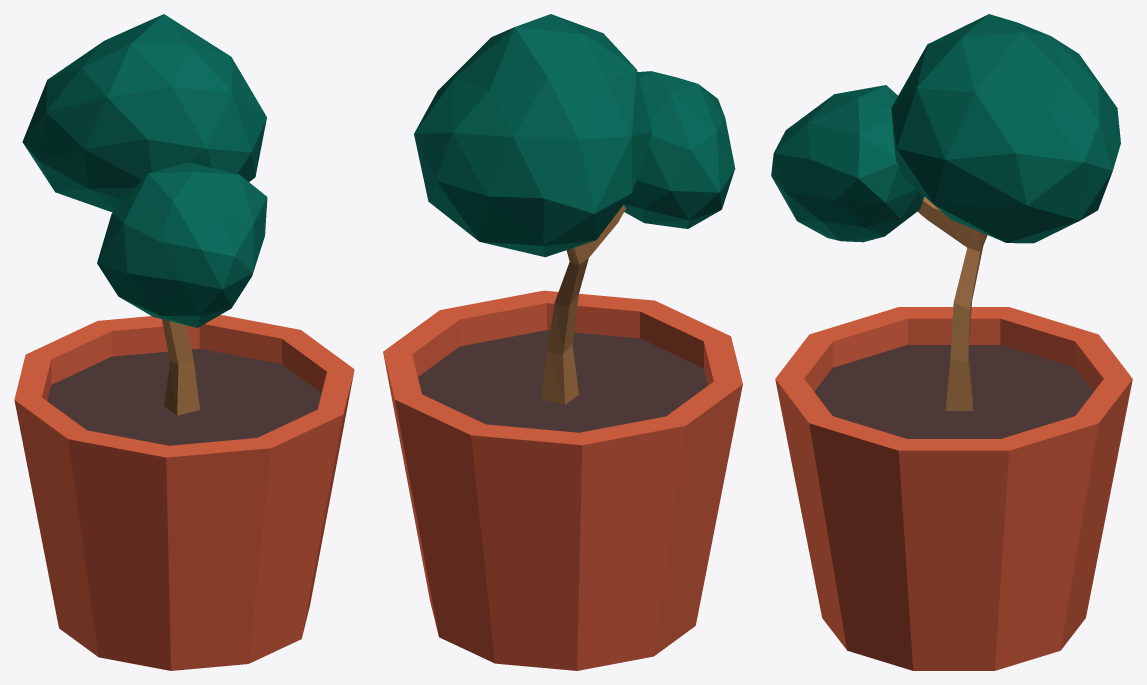
File: plant.obj
3 renders of one model, left to right at view 1: azimuth 30°, elevation 25°; view 2: azimuth 150°, elevation 25°; view 3: azimuth 270°, elevation 25°, orthographic. The views are drawn at different scales.
Visible parts, largest first — view 1: Cube_Cube.004; view 2: Cube_Cube.004; view 3: Cube_Cube.004.
Part boxes in pixels (left/top/right/bottom): Cube_Cube.004: left=14, top=14, right=354, bottom=670; Cube_Cube.004: left=383, top=14, right=742, bottom=670; Cube_Cube.004: left=771, top=14, right=1132, bottom=670.
Bounding box in the file's own units: 0.9424 × 1.81 × 1.
